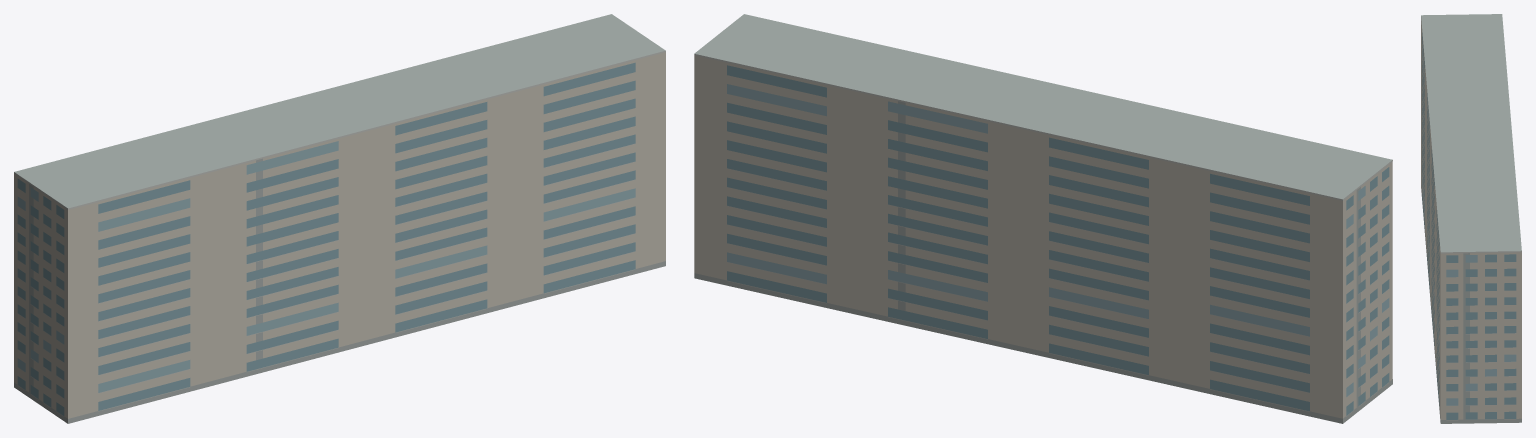
The model's file is residential-9dfa98cb-459f-435e-9953-d3293a0f4a68.glb.
3 views of the same model, side by side, from view 1: azimuth 30°, elevation 25°; view 2: azimuth 150°, elevation 25°; view 3: azimuth 270°, elevation 25° (orthographic). The views are drawn at different scales.
Visible parts, largest first — view 1: residential-9dfa98cb-459f-435e-9953-d3293a0f4a68.tmp; view 2: residential-9dfa98cb-459f-435e-9953-d3293a0f4a68.tmp; view 3: residential-9dfa98cb-459f-435e-9953-d3293a0f4a68.tmp.
Boxes of the visible parts, bbox=[...] form: residential-9dfa98cb-459f-435e-9953-d3293a0f4a68.tmp: bbox=[14, 14, 665, 423]; residential-9dfa98cb-459f-435e-9953-d3293a0f4a68.tmp: bbox=[694, 14, 1392, 423]; residential-9dfa98cb-459f-435e-9953-d3293a0f4a68.tmp: bbox=[1421, 14, 1521, 423].
Bounding box in the file's own units: 101 × 34 × 18.12.
